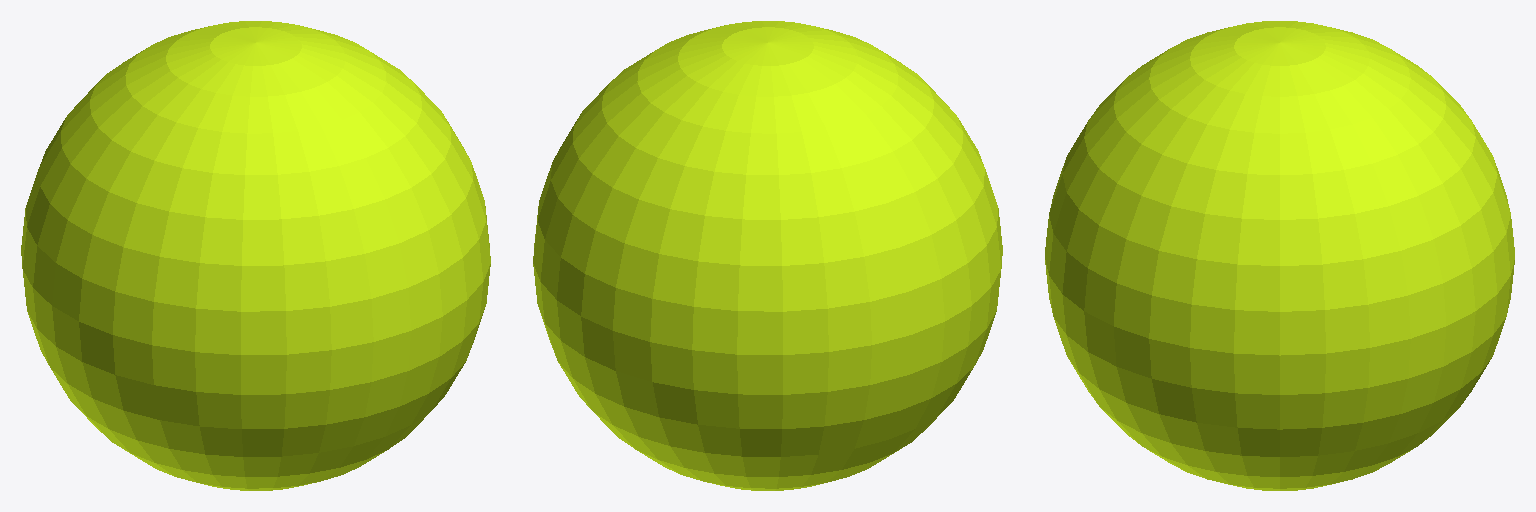
3 renders of one model, left to right at view 1: azimuth 30°, elevation 25°; view 2: azimuth 150°, elevation 25°; view 3: azimuth 270°, elevation 25°, orthographic.
Parts seen in each view (by area): view 1: Sphere_Sphere.001; view 2: Sphere_Sphere.001; view 3: Sphere_Sphere.001.
Part boxes in pixels (left/top/right/bottom): Sphere_Sphere.001: left=21, top=21, right=490, bottom=490; Sphere_Sphere.001: left=533, top=21, right=1002, bottom=490; Sphere_Sphere.001: left=1045, top=21, right=1514, bottom=490.
Size of the model in its own units: 0.7 by 0.7 by 0.7.
1 materials, 1 textured.